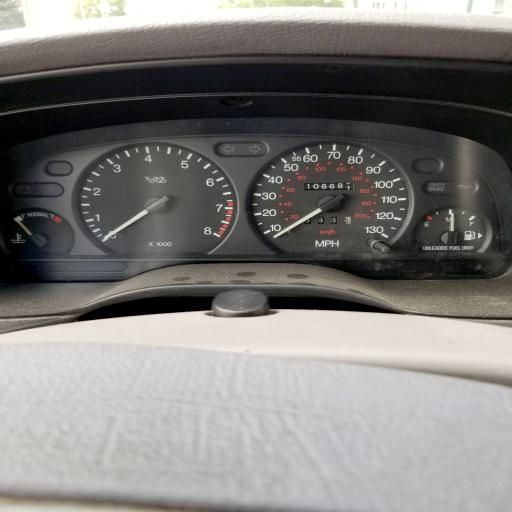tachometer: (72, 142, 236, 262)
